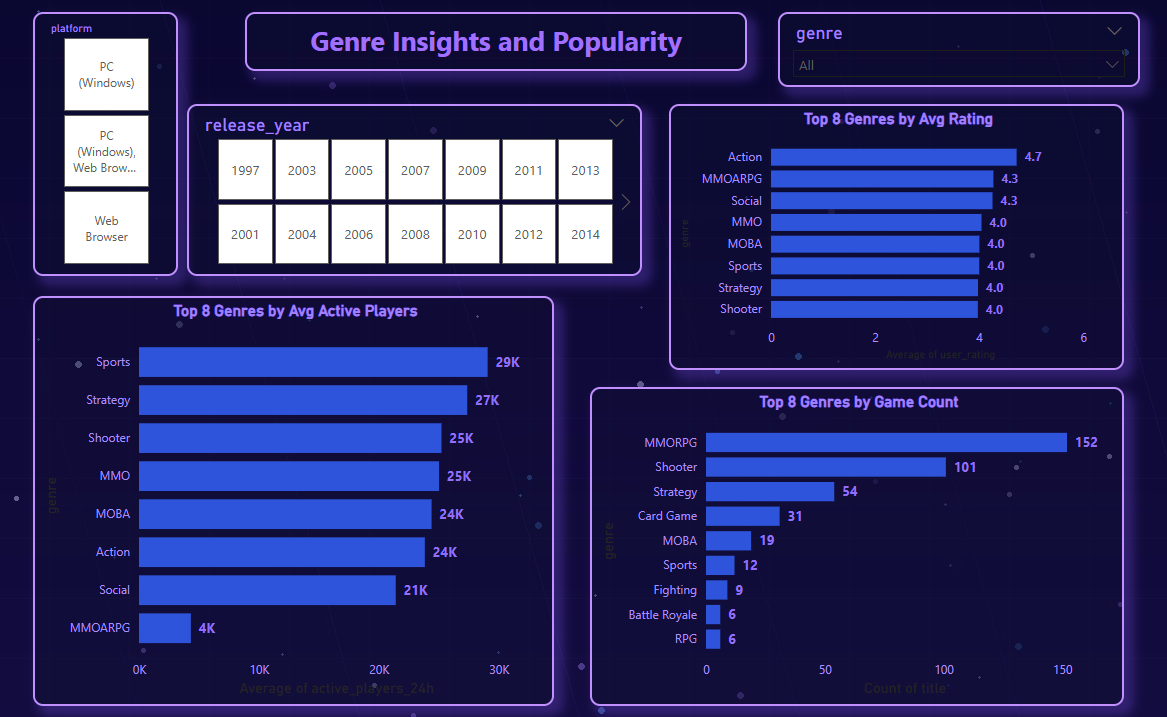

What the dashboard file says about the page in this screenshot:
{"tool":"powerbi","page":{"name":"Genre Analysis","canvas":[1280,720],"ordinal":1},"visuals":[{"type":"clusteredBarChart","title":"Top 8 Genres by Game Count","fields":{"Category":["games_data.genre"],"Y":["CountNonNull(games_data.title)"]},"box":[620.9,387.3,534.5,319.1],"z":0},{"type":"slicer","fields":{"Values":["games_data.genre"]},"box":[809.1,11.8,361.8,75.5],"z":1000},{"type":"slicer","fields":{"Values":["games_data.platform"]},"box":[63.6,11.8,145.5,264.5],"z":2000},{"type":"slicer","fields":{"Values":["games_data.release_year"]},"box":[218.2,103.6,454.5,172.7],"z":3000},{"type":"textbox","box":[276.4,11.8,501.8,59.1],"z":4000},{"type":"barChart","title":"Top 8 Genres by Avg Rating","fields":{"Category":["games_data.genre"],"Y":["Avg(games_data.user_rating)"]},"box":[700,103.6,455.5,266.4],"z":5000},{"type":"barChart","title":"Top 8 Genres by Avg Active Players","fields":{"Category":["games_data.genre"],"Y":["Avg(games_data.active_players_24h)"]},"box":[63.6,296.4,521.8,410],"z":6000}]}

Visuals, with their boxes on the page's 1280x720 design canvas (x1, y1, x2, y2). These are canvas units, not pixel positions in the 1167x717 screenshot, which may show the page scaled, cropped or inside an application window:
"Top 8 Genres by Game Count" clusteredBarChart: (x1=621, y1=387, x2=1155, y2=706)
slicer - games_data.genre: (x1=809, y1=12, x2=1171, y2=87)
slicer - games_data.platform: (x1=64, y1=12, x2=209, y2=276)
slicer - games_data.release_year: (x1=218, y1=104, x2=673, y2=276)
textbox: (x1=276, y1=12, x2=778, y2=71)
"Top 8 Genres by Avg Rating" barChart: (x1=700, y1=104, x2=1156, y2=370)
"Top 8 Genres by Avg Active Players" barChart: (x1=64, y1=296, x2=585, y2=706)
